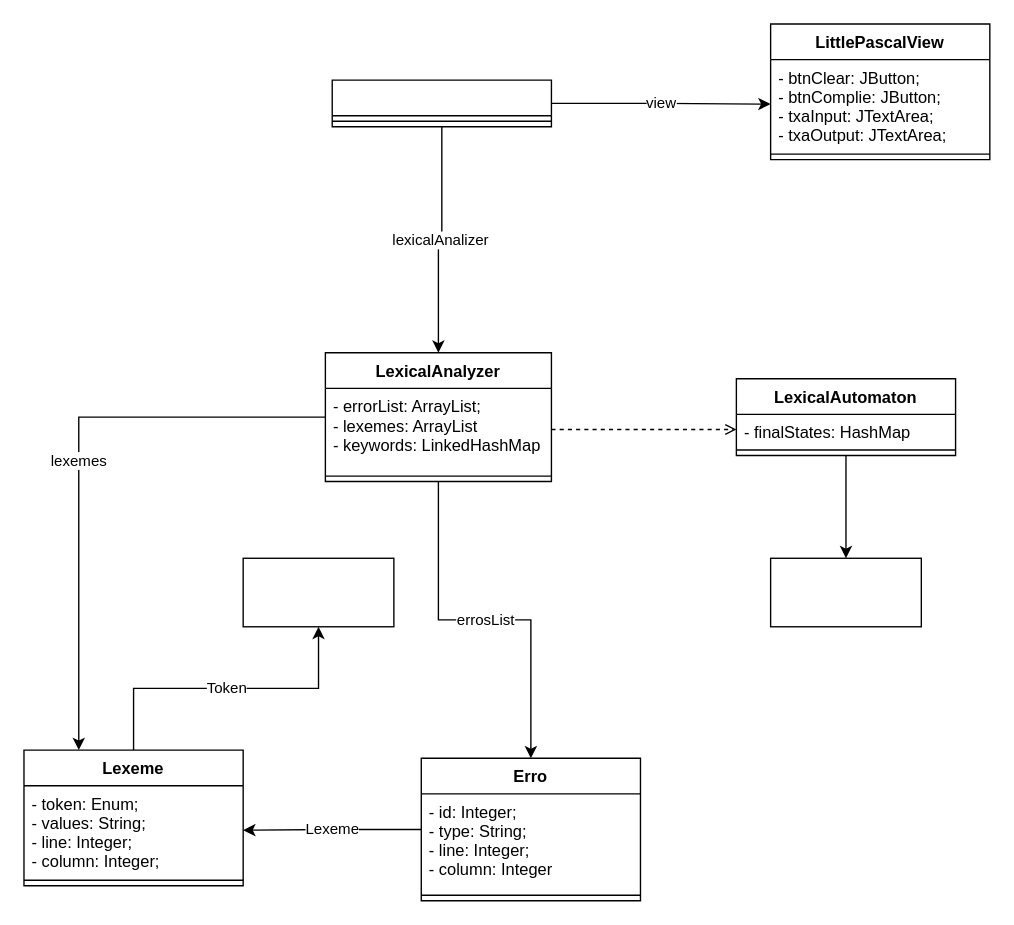
Image size: 1014x925. Some labels were removed from this diagram. Each missing label, with the centre of its shape:
"LexicalController" goes at [441,103].
"«Enum» LexicalState" goes at [845,592].
"«Enum» Token" goes at [318,592].
